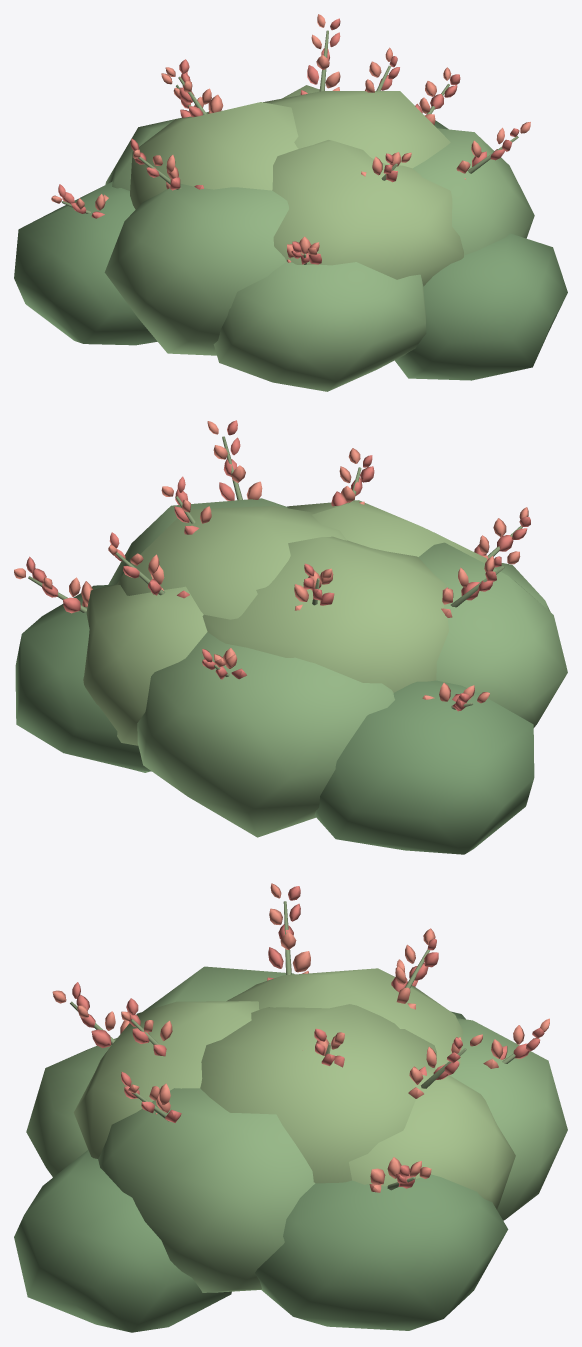
File: ceibo_bush_6.glb
The picture shows the model from 3 angles, top to bottom: view 1: azimuth 30°, elevation 25°; view 2: azimuth 150°, elevation 25°; view 3: azimuth 270°, elevation 25°; orthographic projection. The views are drawn at different scales.
Parts seen in each view (by area): view 1: CeiboLeafM, CeiboLeafL, CeiboLeafD, CeiboPetal, CeiboFlower, CeiboWood; view 2: CeiboLeafL, CeiboLeafM, CeiboLeafD, CeiboPetal, CeiboFlower, CeiboWood; view 3: CeiboLeafL, CeiboLeafD, CeiboLeafM, CeiboPetal, CeiboFlower, CeiboWood.
Boxes of the visible parts, x1,y1,x2,y2 form: CeiboLeafM: (104, 111, 534, 391); CeiboLeafL: (130, 85, 463, 286); CeiboLeafD: (14, 120, 567, 380); CeiboPetal: (51, 14, 530, 262); CeiboFlower: (58, 18, 519, 264); CeiboWood: (62, 30, 518, 264); CeiboLeafL: (83, 500, 486, 745); CeiboLeafM: (108, 498, 567, 837); CeiboLeafD: (15, 584, 534, 854); CeiboPetal: (14, 421, 528, 703); CeiboFlower: (26, 420, 530, 711); CeiboWood: (28, 436, 522, 709); CeiboLeafL: (73, 968, 515, 1209); CeiboLeafD: (14, 1011, 508, 1332); CeiboLeafM: (26, 966, 567, 1292); CeiboPetal: (52, 883, 549, 1192); CeiboFlower: (72, 886, 544, 1188); CeiboWood: (70, 901, 539, 1190).
Bounding box in the file's own units: 1.91 × 1.03 × 1.77.
